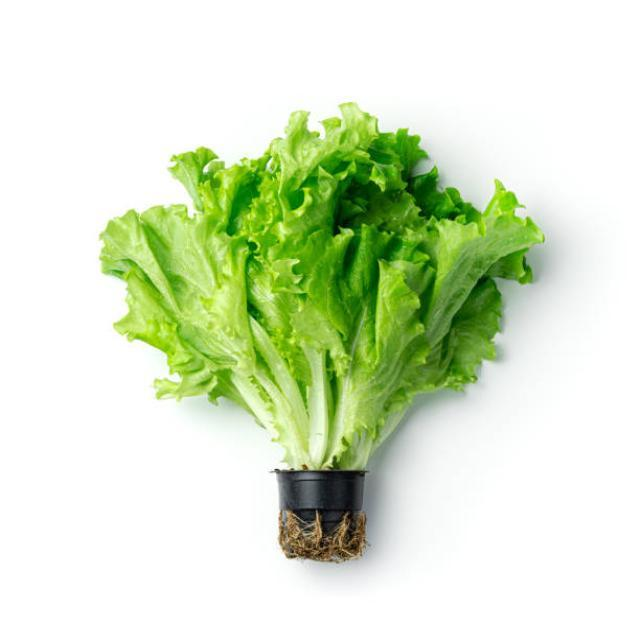Lettuce-Ready-to-Harvest: (98, 102, 546, 473)
